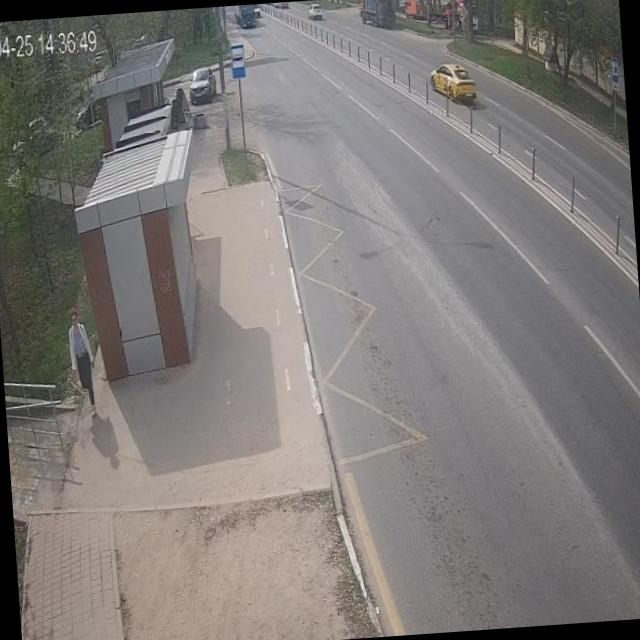person: (66, 306, 99, 419)
